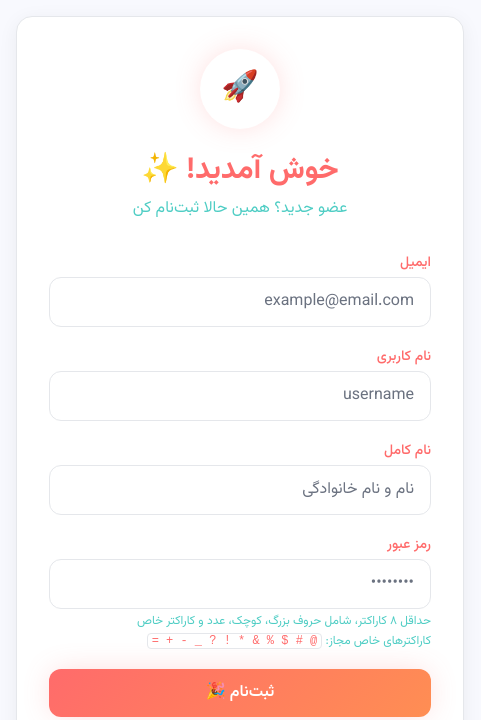
Test case: RegisterPage › should show validation errors for empty fields
The width and height of the screenshot is (481, 720).
What coordinates should you click on to do the following:
click the button "ثبت‌نام 🎉"
I would click on:
 (240, 693)
Its box is x1=49 y1=669 x2=431 y2=717.
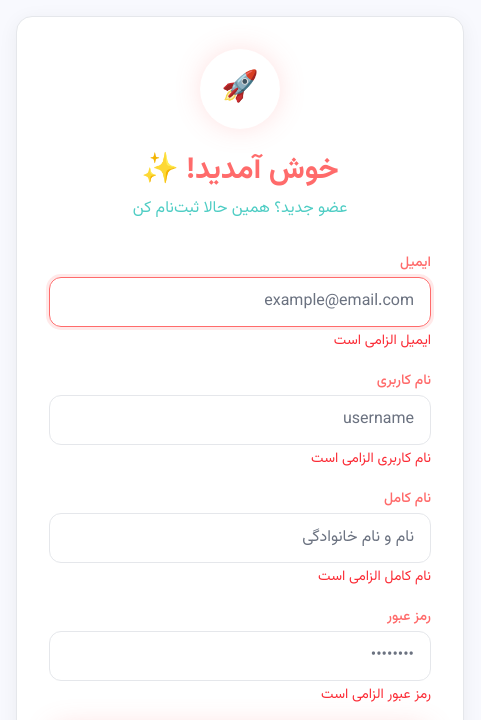
expect the text "ایمیل الزامی است" is shown: met, box x1=334 y1=330 x2=431 y2=352
expect the text "نام کاربری الزامی است" is shown: met, box x1=311 y1=448 x2=431 y2=470
expect the text "نام کامل الزامی است" is shown: met, box x1=318 y1=566 x2=431 y2=588
